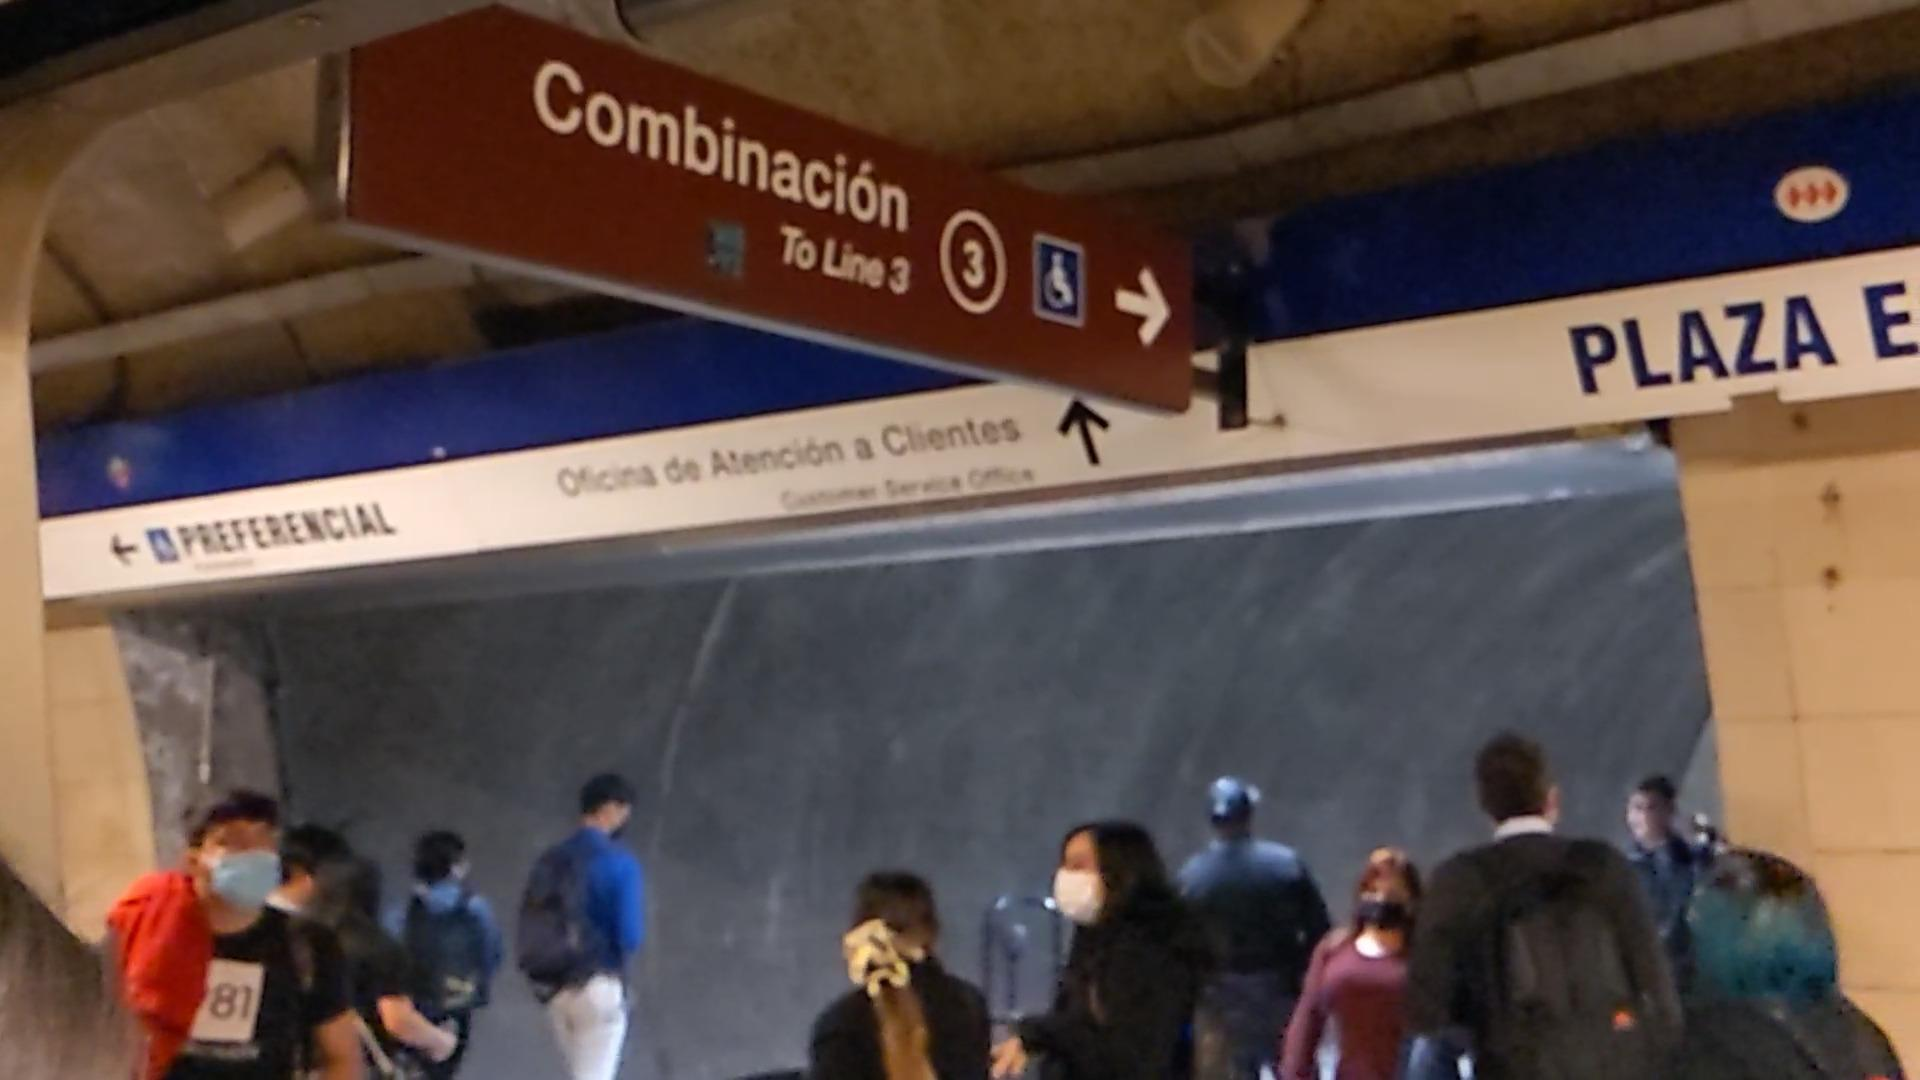handicapped symbol: (1040, 251, 1077, 314), (148, 526, 179, 564)
left arrow: (108, 534, 140, 567)
up arrow: (1109, 261, 1174, 349), (1052, 392, 1116, 467)
